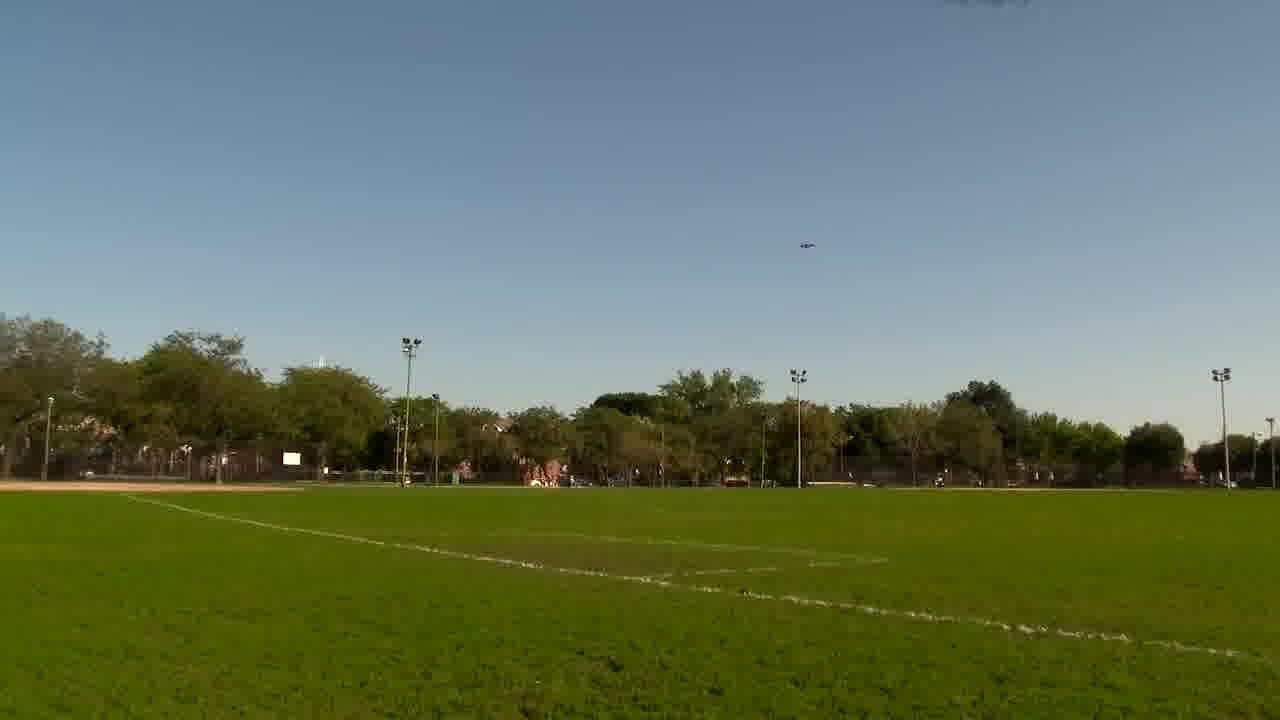drone: (787, 231, 826, 249)
